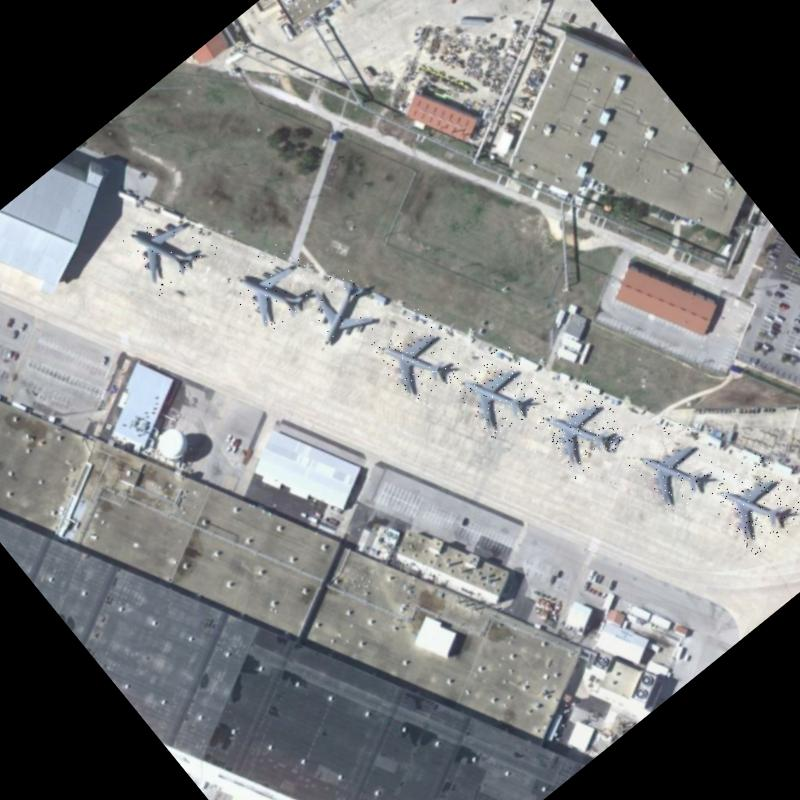A14: (220, 233, 329, 342), (114, 191, 221, 298), (446, 336, 551, 442), (624, 414, 729, 520), (366, 302, 470, 408), (702, 448, 800, 558), (531, 378, 633, 480), (294, 262, 393, 362)
